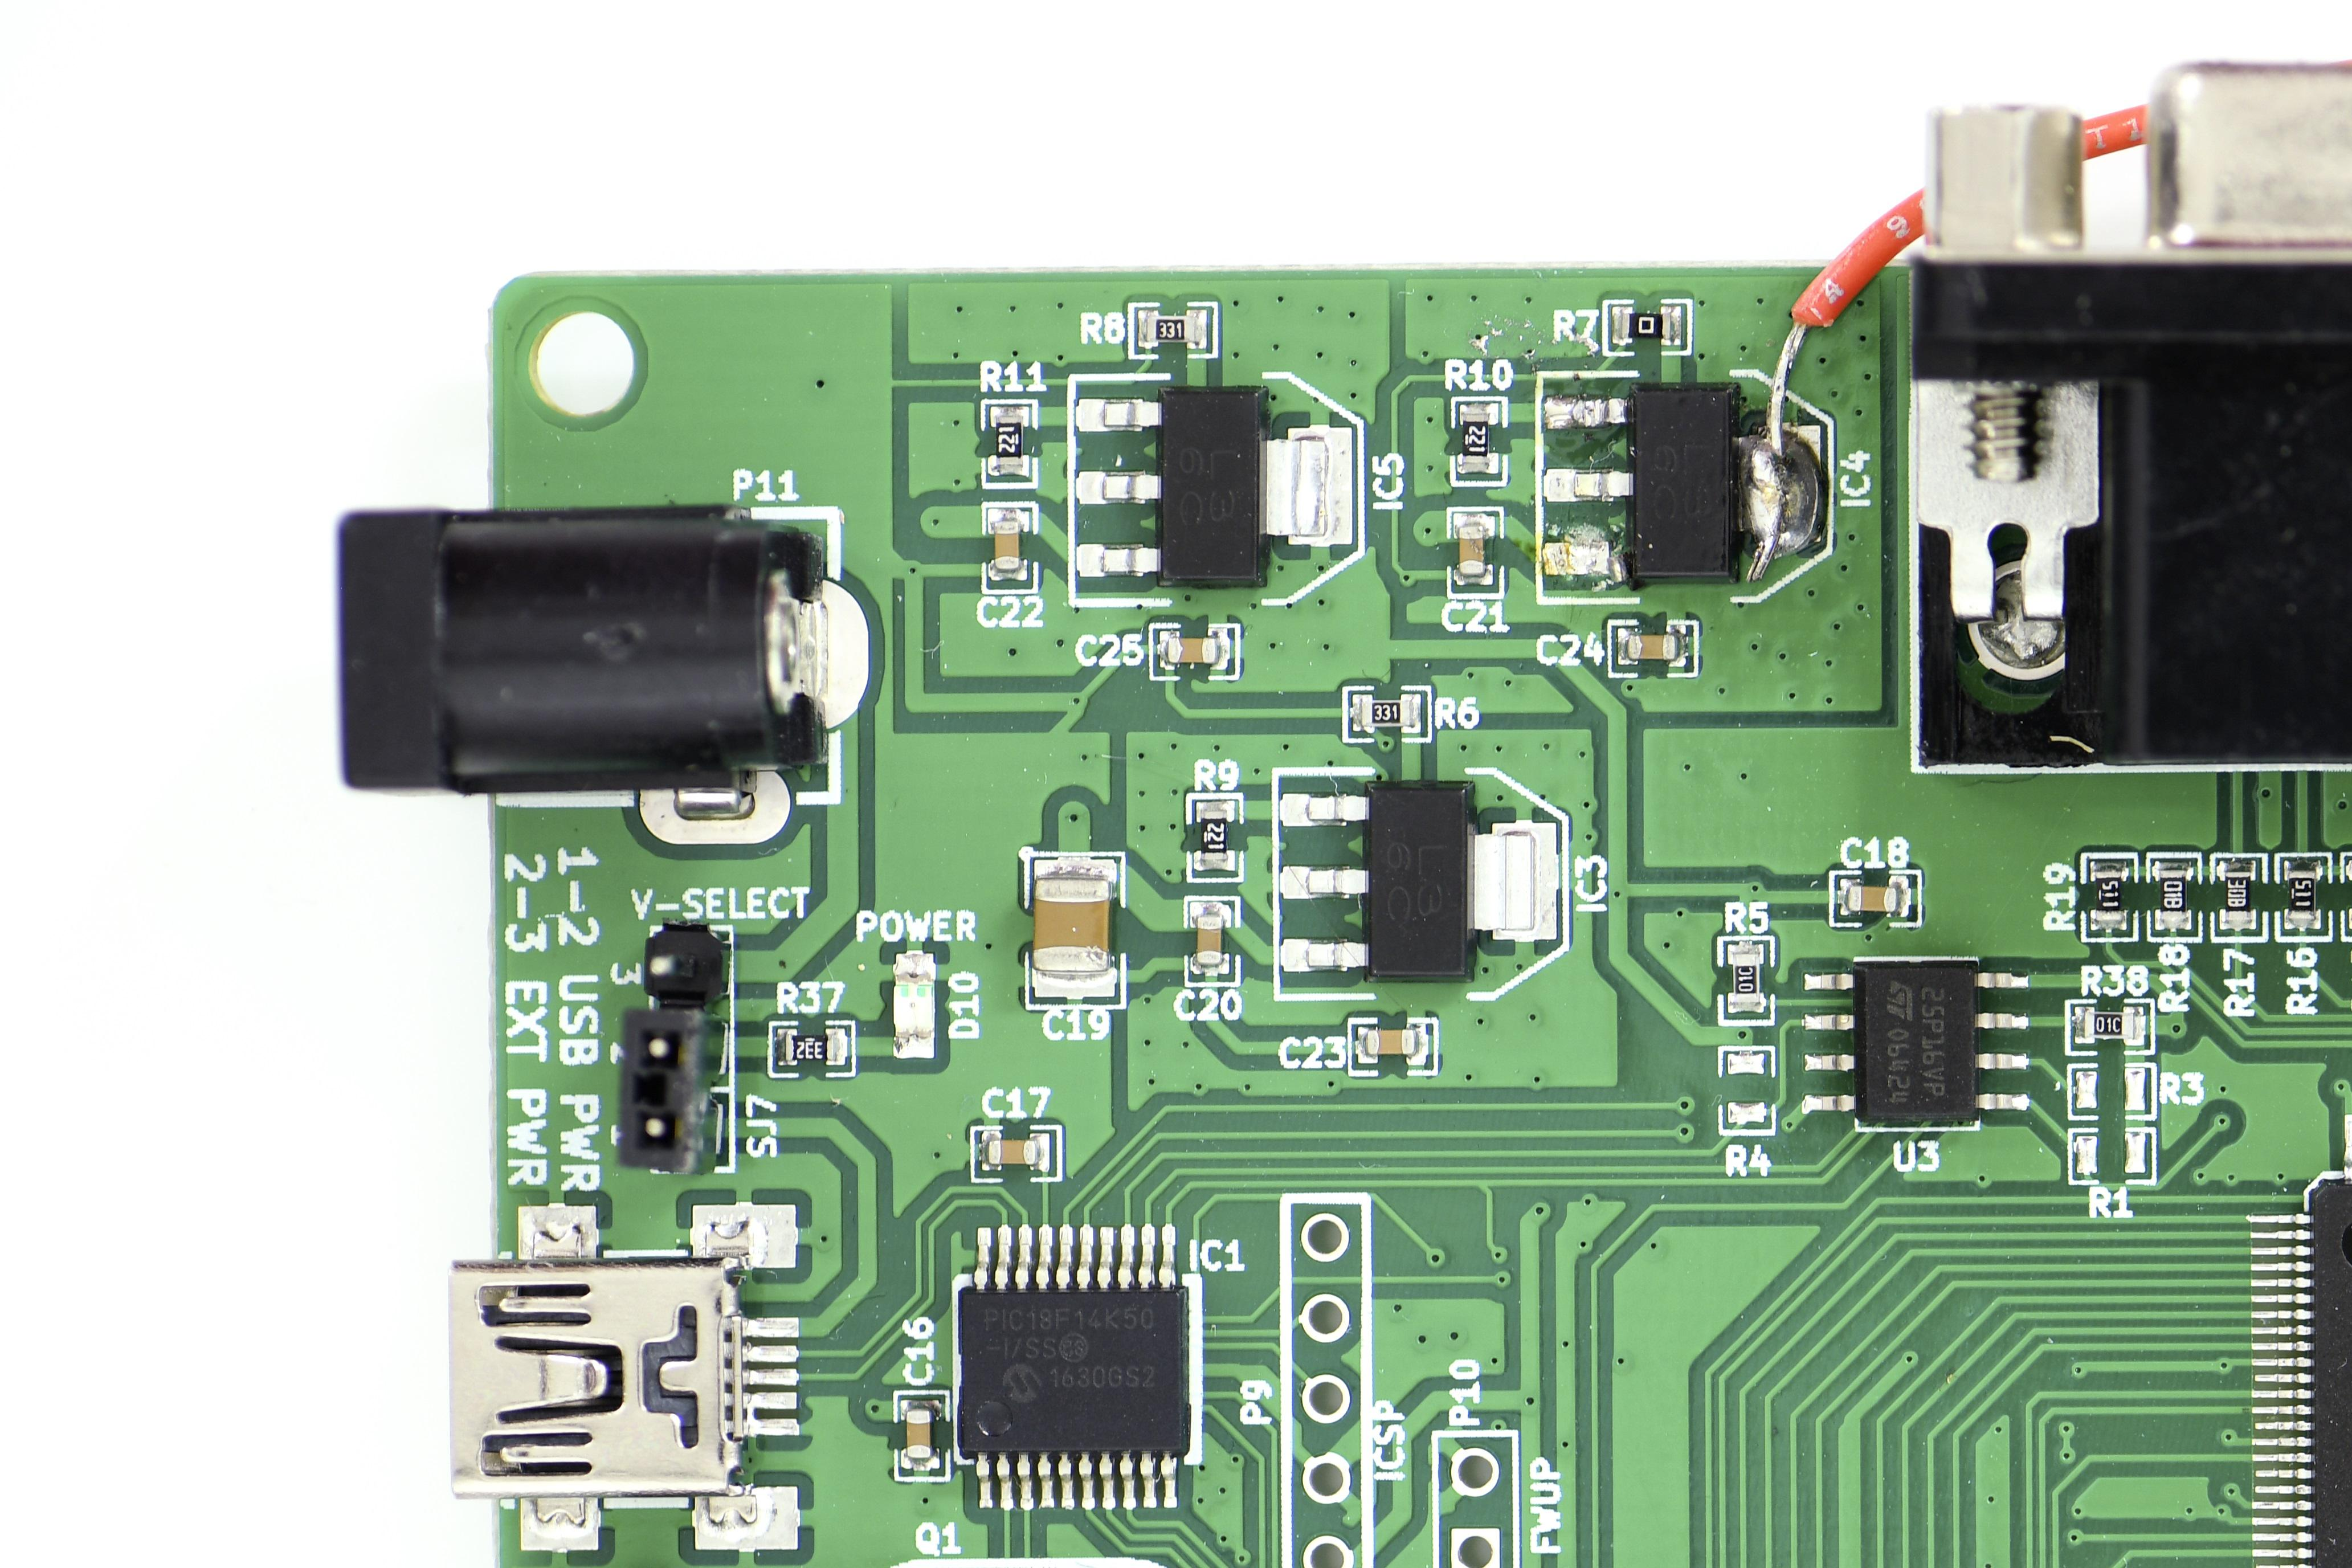ICs: (949, 1278, 1190, 1461), (1153, 380, 1265, 586), (1360, 779, 1472, 984), (1629, 380, 1741, 584), (1846, 957, 1979, 1125), (2303, 1173, 2352, 1568)
capacitors: (1031, 872, 1113, 975), (989, 516, 1025, 574), (1192, 910, 1227, 970), (1360, 1025, 1418, 1059), (1454, 521, 1487, 579), (901, 1403, 935, 1461), (982, 1136, 1039, 1167), (1164, 633, 1220, 665), (1622, 630, 1678, 661), (1845, 882, 1899, 914)
diodes: (891, 959, 936, 1046)
resistors: (991, 411, 1027, 469), (2284, 865, 2319, 924), (2156, 865, 2191, 924), (1458, 410, 1493, 467), (1195, 807, 1230, 865), (780, 1031, 840, 1064), (1358, 695, 1414, 730), (1727, 949, 1762, 1004), (2091, 866, 2124, 924), (1143, 312, 1199, 345), (2081, 1008, 2137, 1041), (2221, 868, 2254, 924), (1619, 308, 1673, 341), (2350, 865, 2352, 922)
